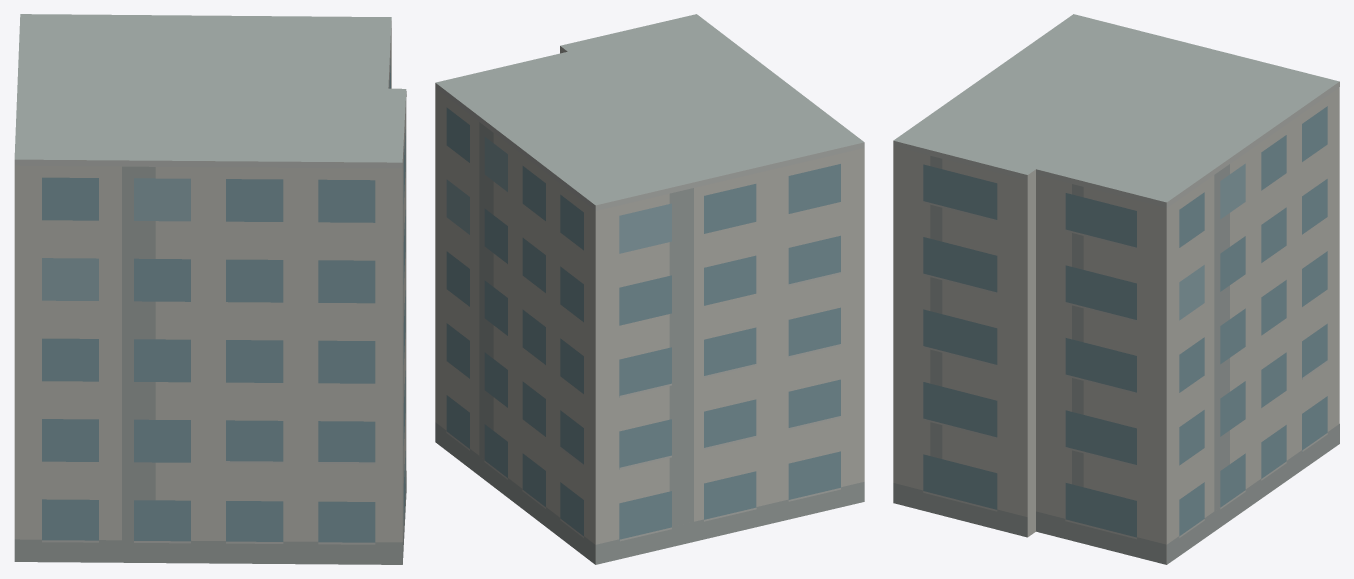
File: survey-upis-32880188.glb
The picture shows the model from 3 angles, left to right: view 1: azimuth 30°, elevation 25°; view 2: azimuth 150°, elevation 25°; view 3: azimuth 270°, elevation 25°; orthographic projection. The views are drawn at different scales.
Visible parts, largest first — view 1: survey-upis-32880188.tmp; view 2: survey-upis-32880188.tmp; view 3: survey-upis-32880188.tmp.
Part boxes in pixels (bbox=[...]): survey-upis-32880188.tmp: bbox=[14, 14, 406, 564]; survey-upis-32880188.tmp: bbox=[435, 14, 864, 564]; survey-upis-32880188.tmp: bbox=[893, 14, 1339, 564].
Bounding box in the file's own units: 17.63 × 15.8 × 17.65.
